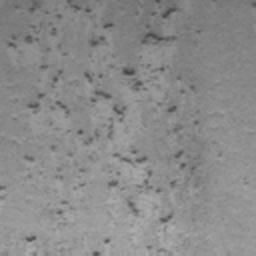Oxide scale of temperature system: (0, 3, 210, 256), (21, 174, 76, 243), (88, 18, 115, 48), (5, 0, 42, 13), (66, 0, 82, 12)
